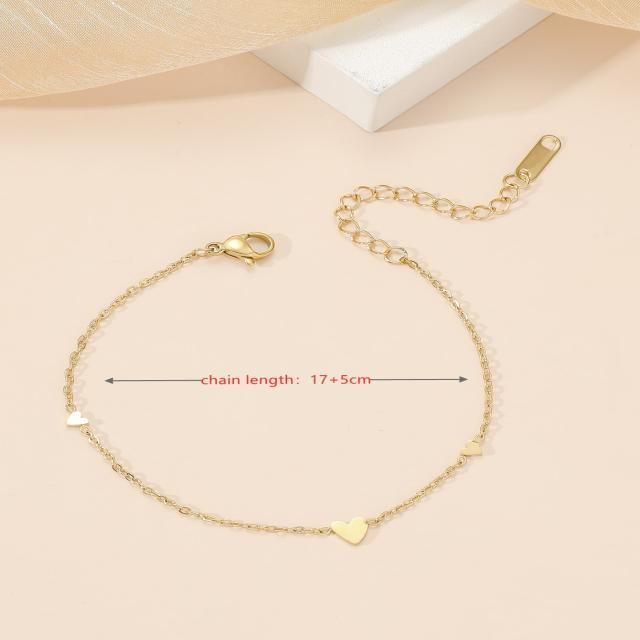bracelet: (0, 114, 615, 564)
